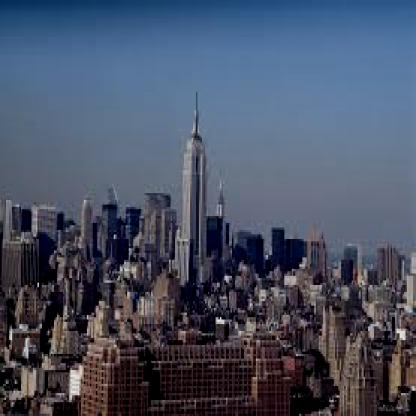Empire-State-building: (180, 86, 210, 244)
